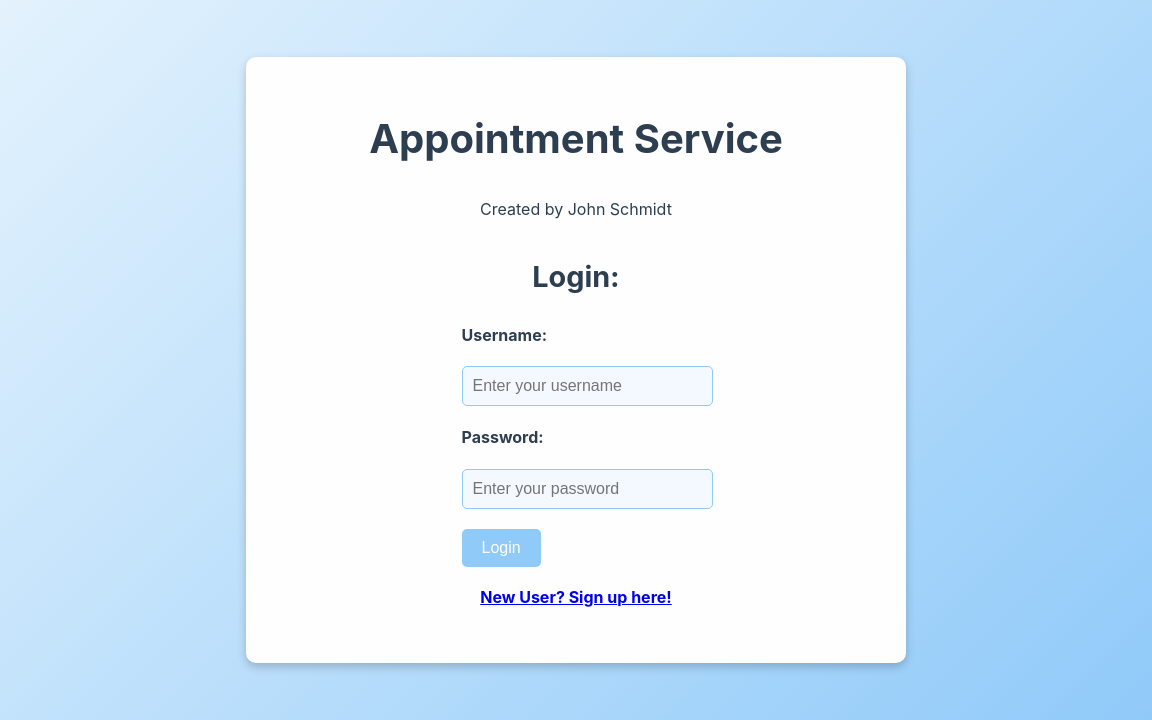
Scenario: Login fails when username and password are incorrect
Type "wrongUser" into the field with placeholder "Enter your username".
click(587, 386); type("wrongUser")  # box top-left (462, 366), bottom-right (712, 406)
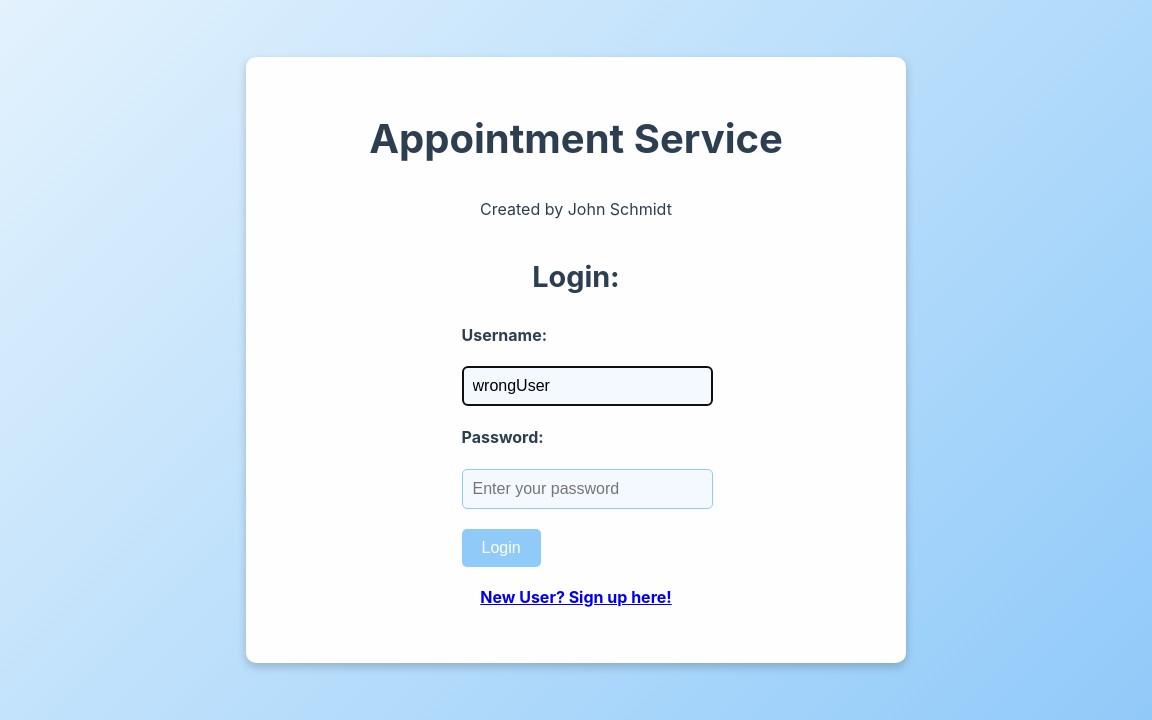
Type "wrongPass" into the password field with placeholder "Enter your password".
click(587, 489); type("wrongPass")  # box top-left (462, 469), bottom-right (712, 509)
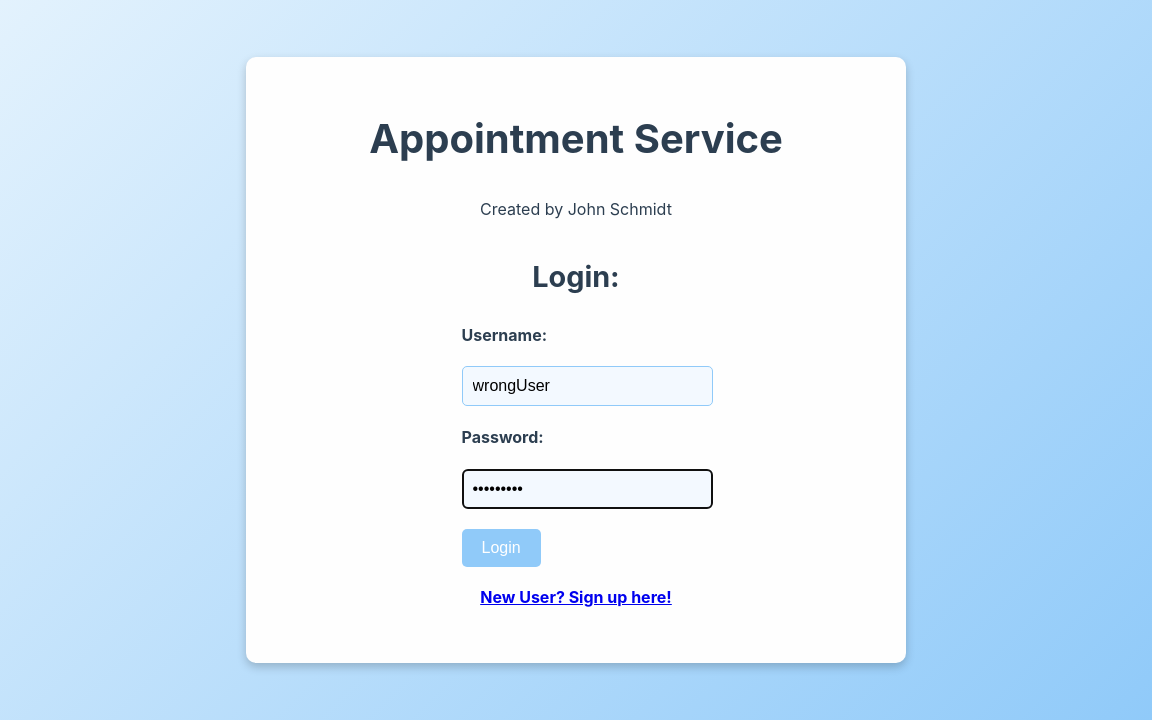
Expected: the text "An error occurred while logging in." is not shown
Click the button "Login".
click(501, 548)  # box top-left (462, 529), bottom-right (541, 567)
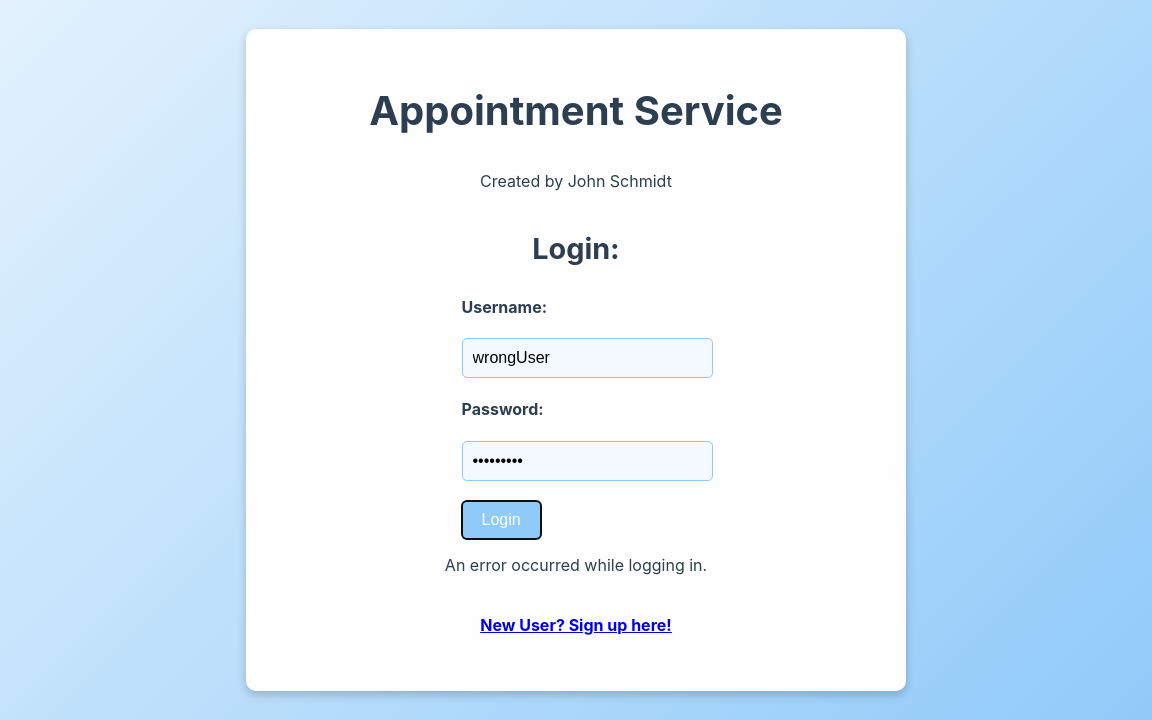
Now the text "An error occurred while logging in." is shown, box top-left (445, 555), bottom-right (707, 575)
